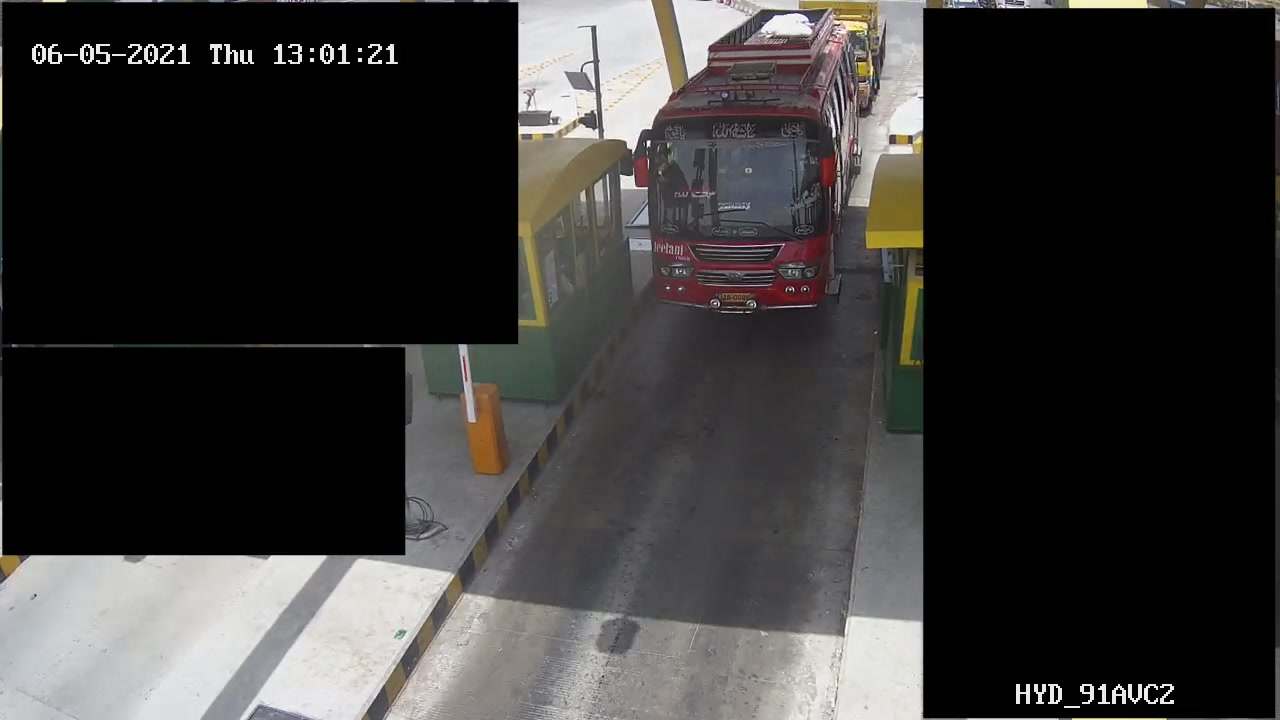F4: (628, 12, 863, 325)
